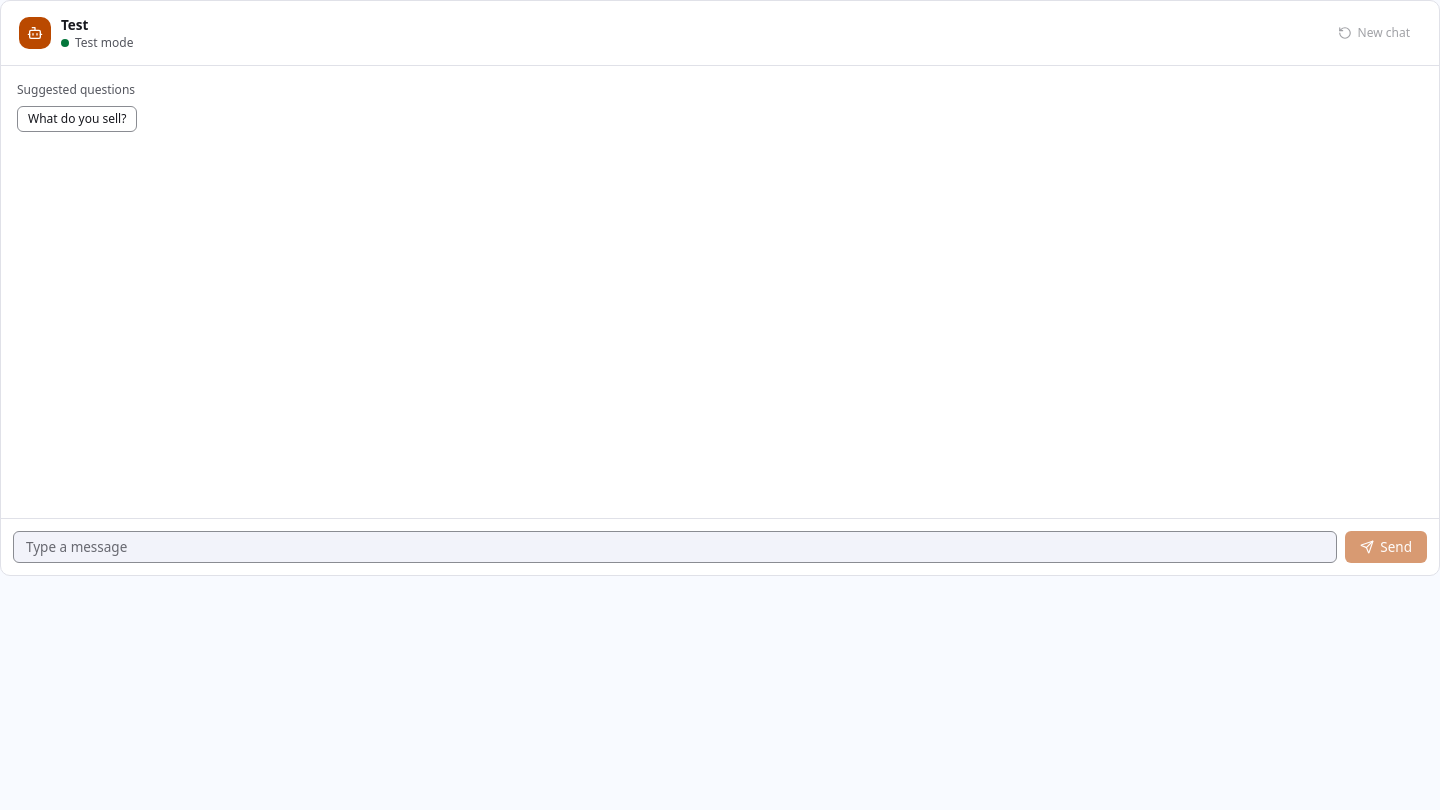
it: ChatPanel › shows a failed request as an error with a retry button
The image size is (1440, 810).
Type "Hi" into the field labelled "message" at (675, 547), box [13,531,1337,563]
Then press Enter
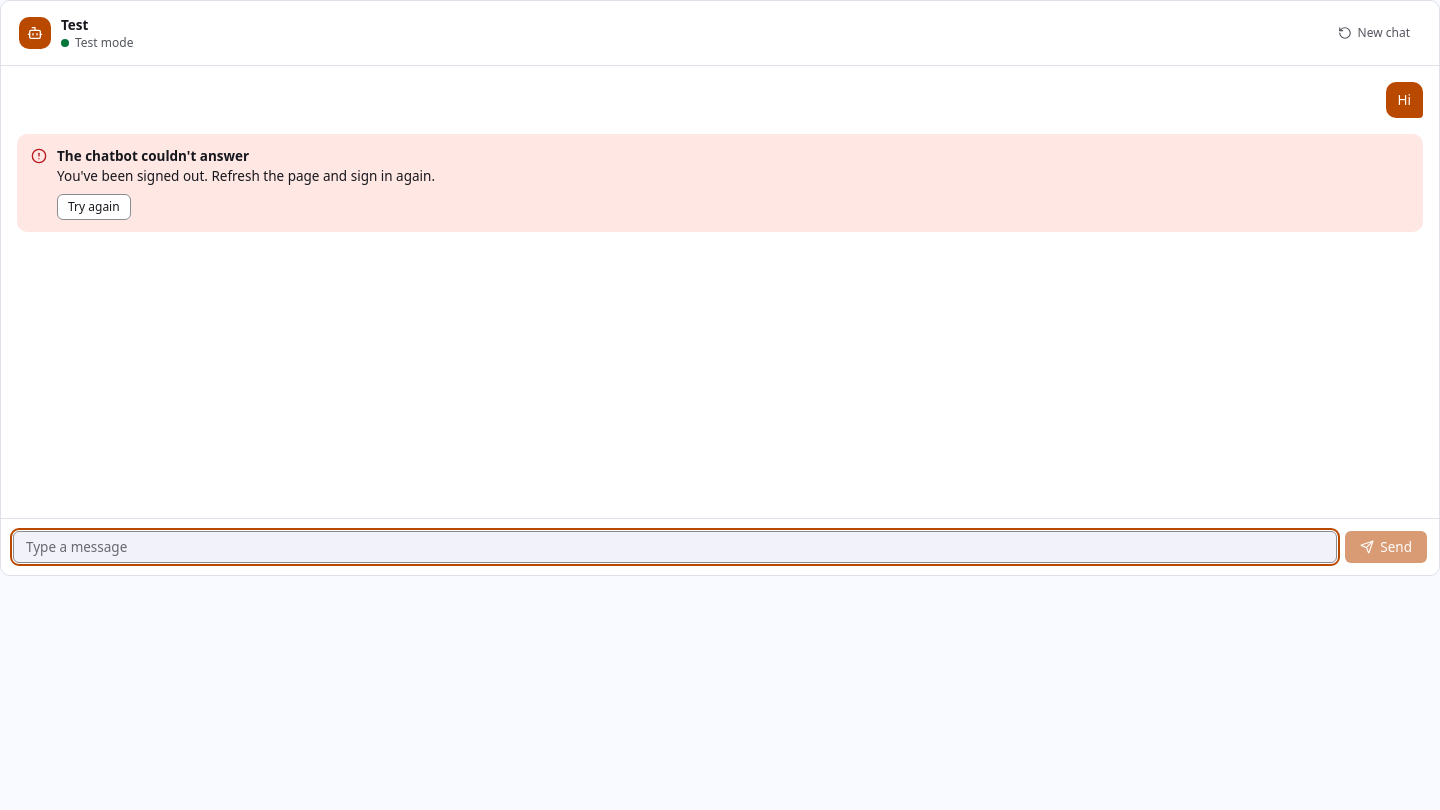
Expected: the message does not show "Invalid key.", [17,134,1423,232]
Expected: the message shows "You've been signed out.", [57,167,435,185]
Expected: the button "Try again" is shown, [57,194,131,220]
